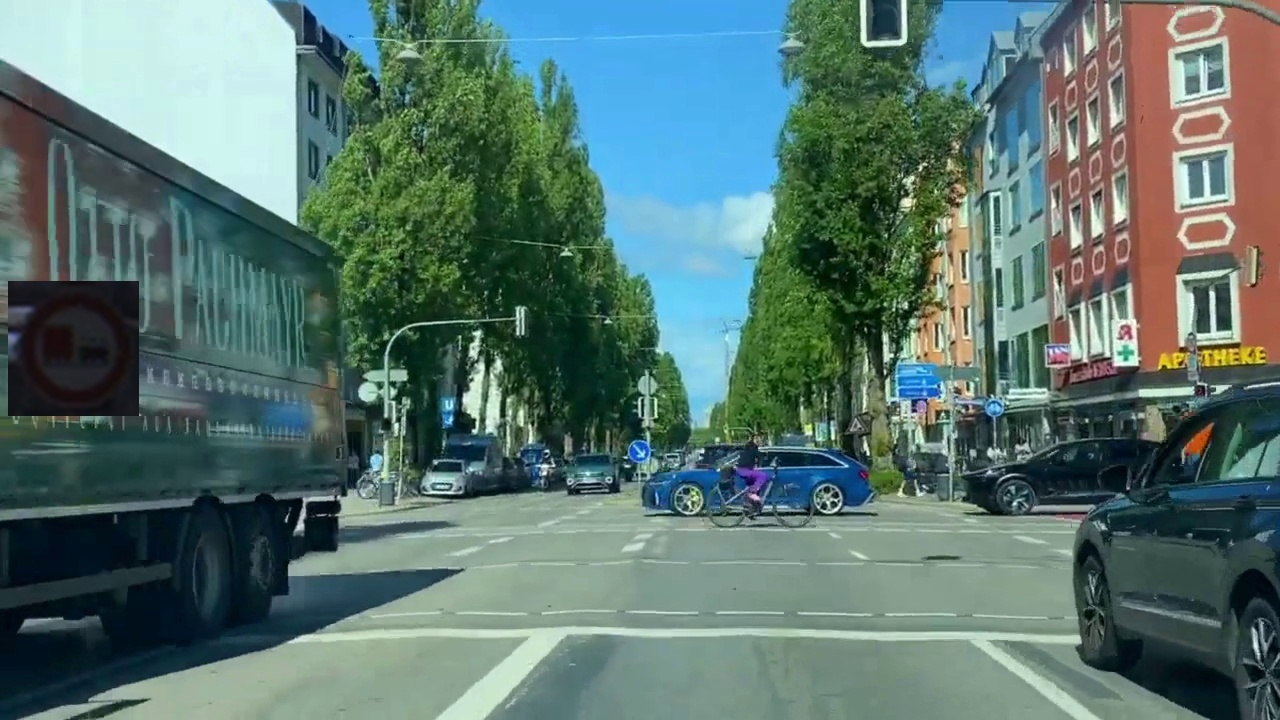No pass >3.5t: (8, 281, 139, 416)
